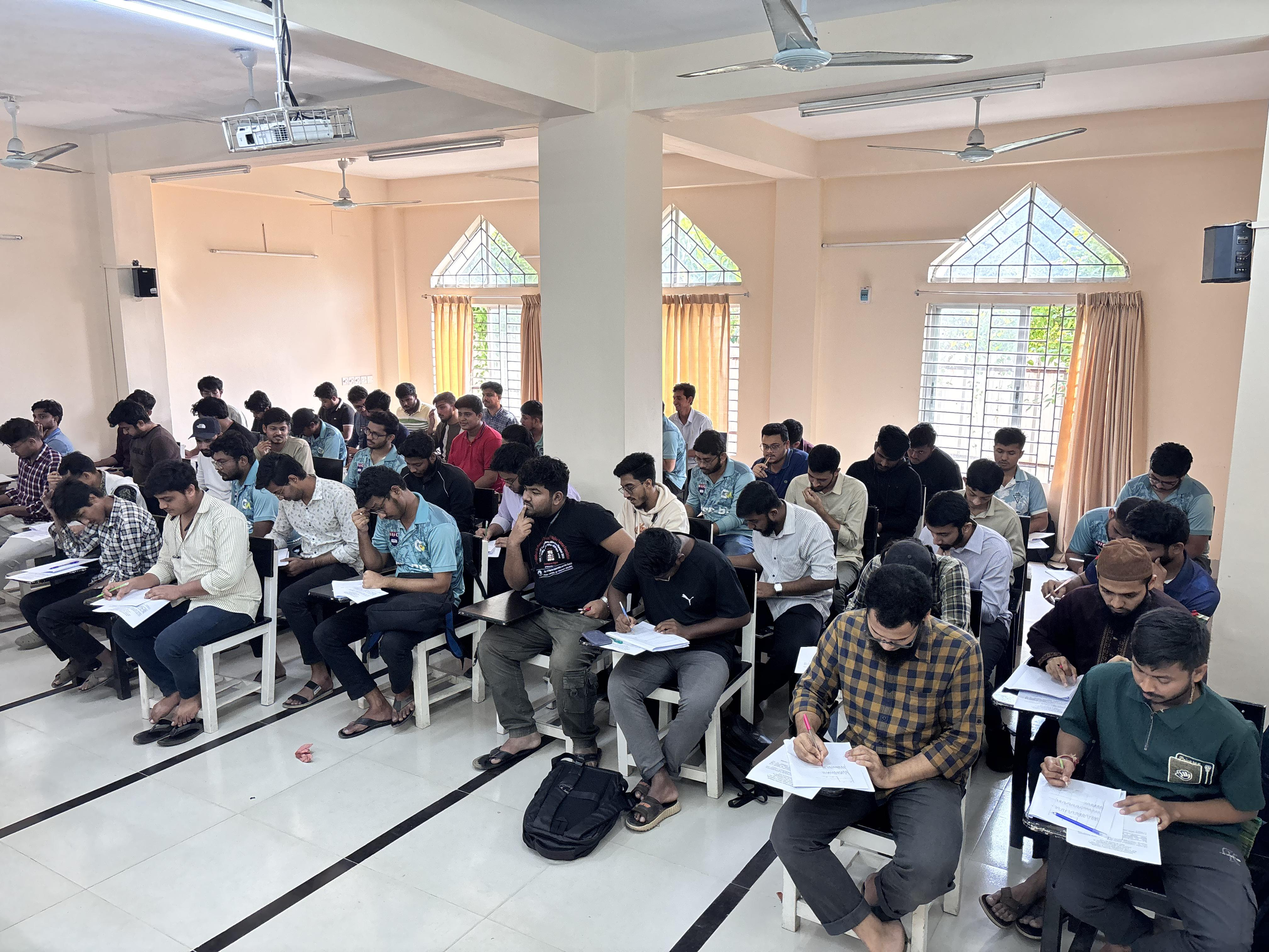copying: (39, 477, 124, 611), (346, 380, 373, 419), (395, 381, 420, 415), (194, 376, 227, 399)
no_cheating: (1055, 606, 1238, 876), (800, 563, 957, 853), (601, 530, 727, 718), (134, 458, 236, 645), (244, 450, 352, 624), (347, 465, 437, 610), (734, 482, 814, 619), (1065, 545, 1159, 638), (515, 458, 582, 585), (610, 451, 675, 545), (856, 421, 917, 508), (1139, 439, 1213, 510), (793, 446, 854, 523), (684, 426, 740, 498), (1, 415, 45, 499), (921, 492, 973, 557), (452, 395, 490, 470), (107, 400, 157, 457), (486, 444, 523, 516), (960, 458, 1007, 514), (395, 430, 442, 485), (756, 420, 792, 476), (1101, 498, 1145, 543), (908, 421, 946, 472), (989, 428, 1029, 470), (292, 406, 331, 449), (363, 415, 398, 458), (30, 398, 63, 438), (431, 389, 456, 426), (316, 379, 341, 416), (479, 380, 504, 411)
side_talking: (669, 380, 711, 426), (257, 406, 298, 452)
